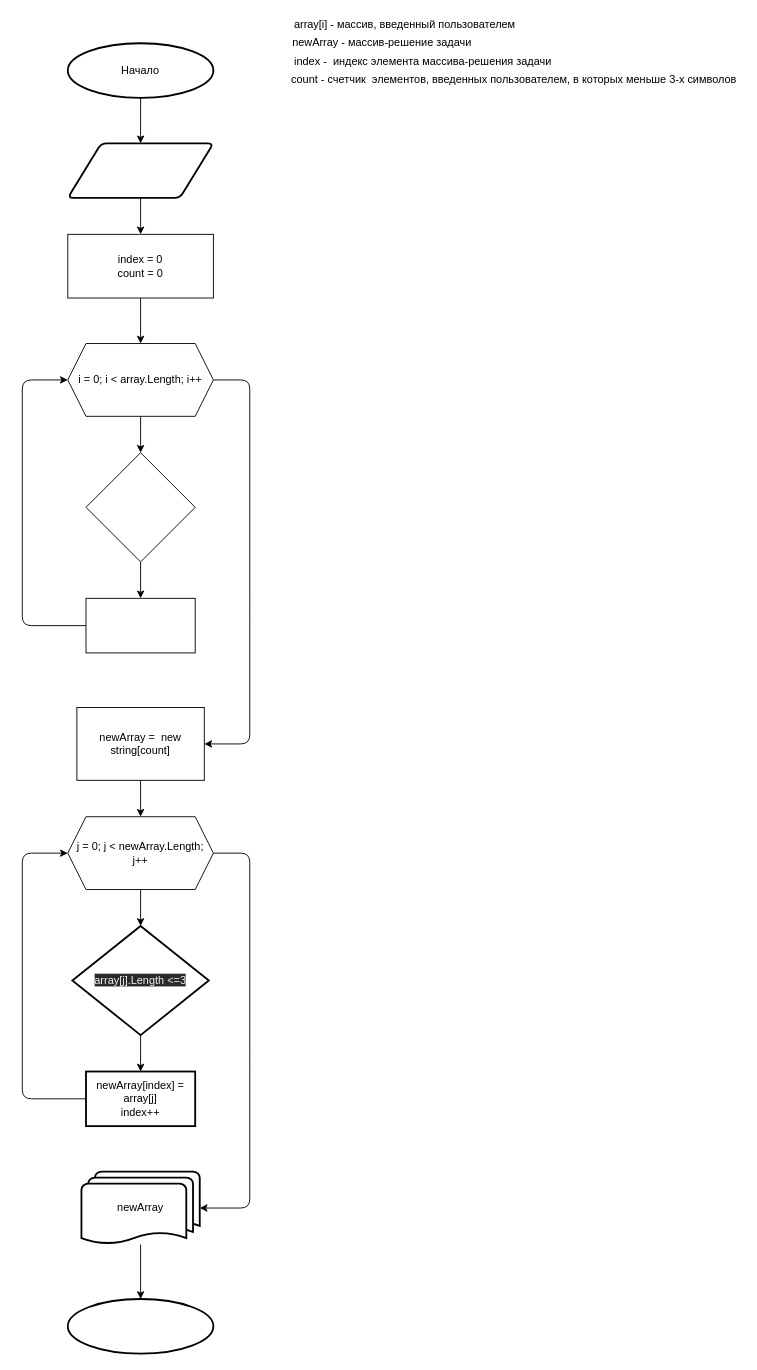
The diagram is 757 pixels wide and 1370 high, and some of its shapes have lost their labels. Each missing label, with the centre of its shape:
array [i]: point 140,170
array[i].Length <=3: point 140,507
count++: point 140,625
Конец: point 140,1326
